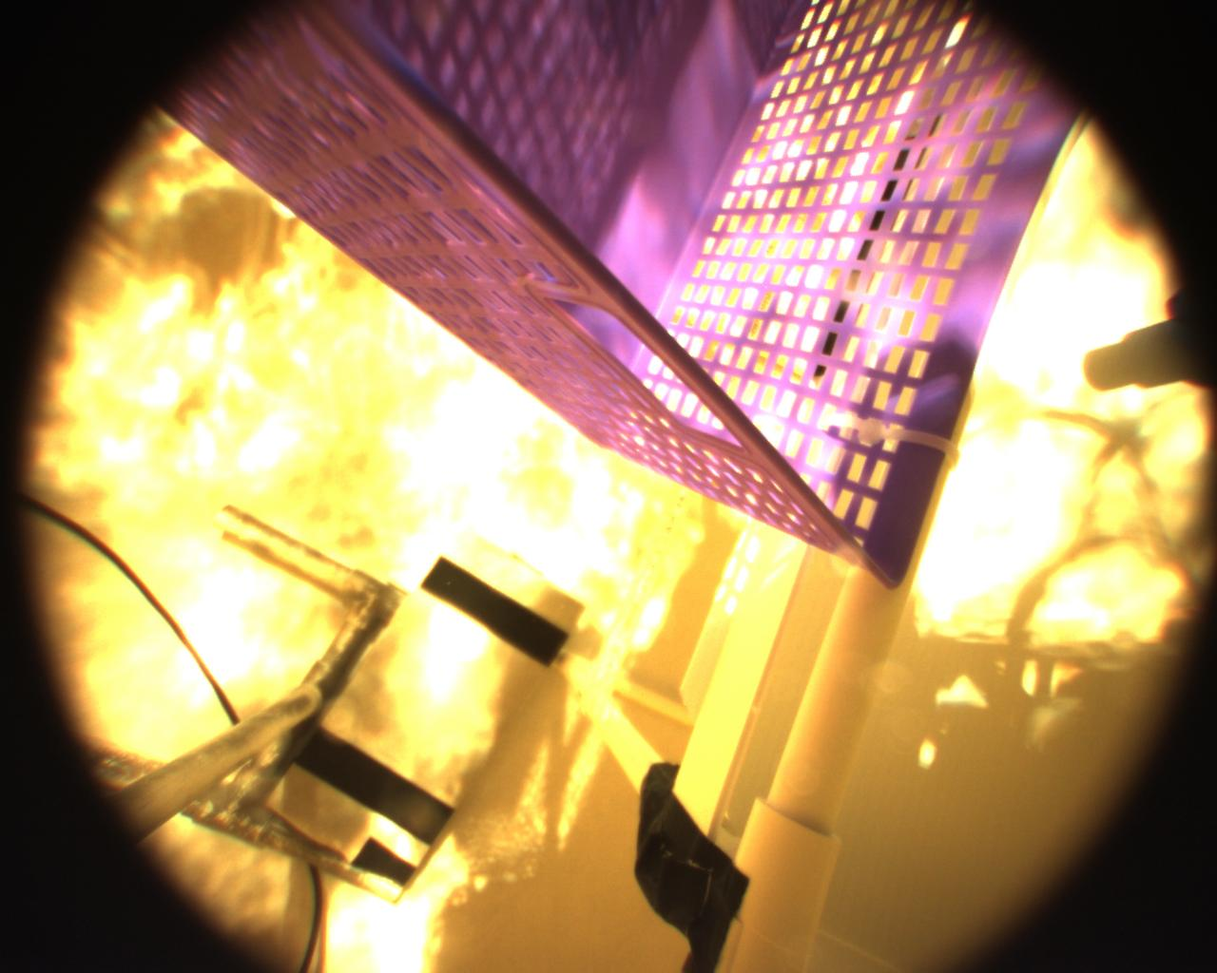coral-box-top: (545, 39, 1207, 973)
